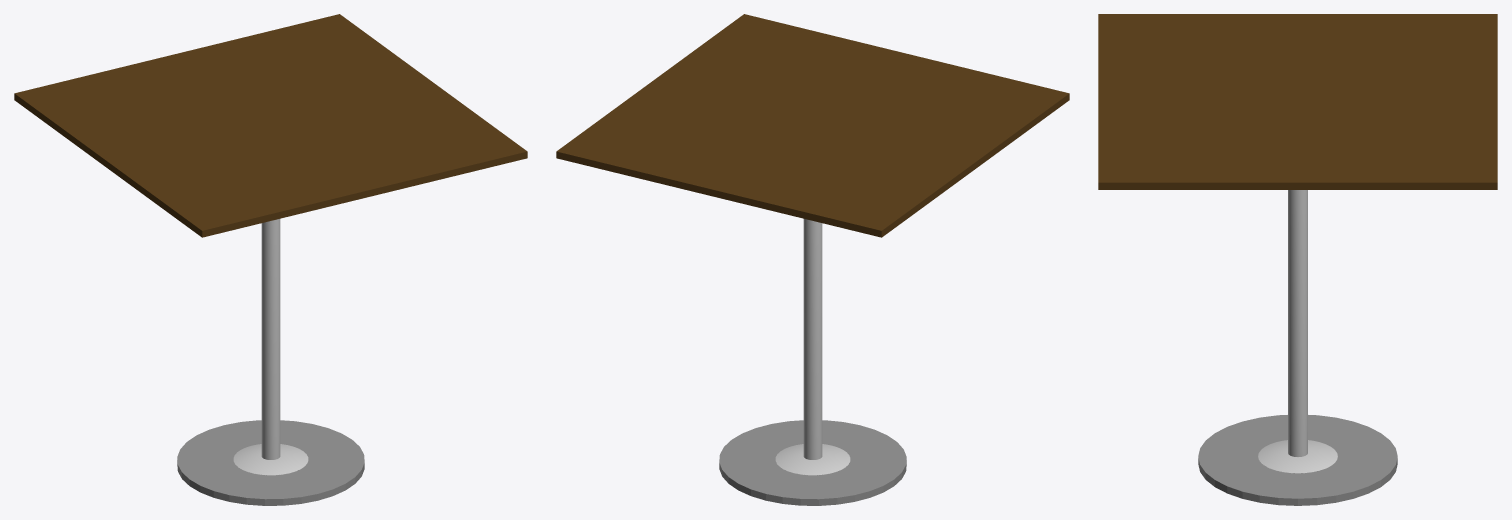
The model's file is SquareTable_00v01.fbx.
3 renders of one model, left to right at view 1: azimuth 30°, elevation 25°; view 2: azimuth 150°, elevation 25°; view 3: azimuth 270°, elevation 25°, orthographic. The views are drawn at different scales.
Parts seen in each view (by area): view 1: Cube, Cylinder.001, Cylinder, Cylinder.002; view 2: Cube, Cylinder.001, Cylinder, Cylinder.002; view 3: Cube, Cylinder.001, Cylinder, Cylinder.002.
Boxes of the visible parts, x1,y1,x2,y2 form: Cube: (14, 14, 527, 237); Cylinder.001: (177, 420, 364, 505); Cylinder: (261, 219, 280, 459); Cylinder.002: (233, 444, 308, 475); Cube: (556, 14, 1069, 237); Cylinder.001: (719, 420, 906, 505); Cylinder: (803, 219, 822, 459); Cylinder.002: (775, 444, 850, 475); Cube: (1098, 14, 1497, 189); Cylinder.001: (1198, 415, 1397, 505); Cylinder: (1288, 190, 1307, 456); Cylinder.002: (1258, 440, 1337, 473).
Size of the model in its own units: 100 by 101 by 100.
